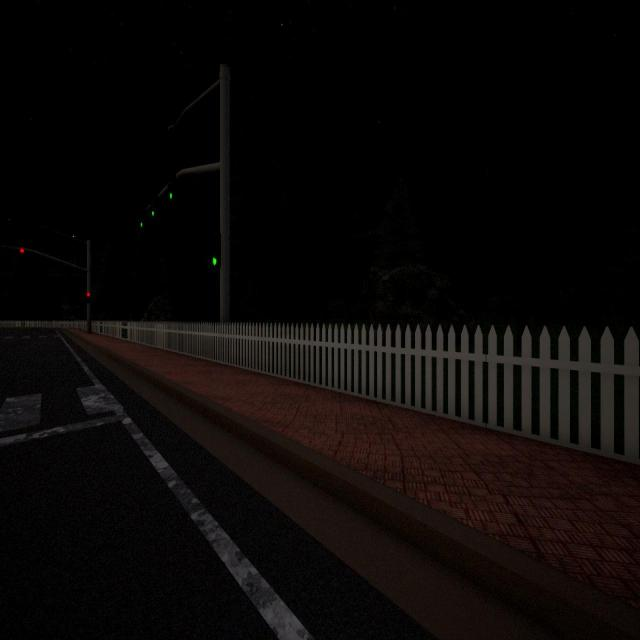traffic_light: (211, 232, 221, 266), (169, 182, 173, 200), (140, 213, 144, 227), (151, 202, 155, 216), (86, 292, 90, 304), (20, 248, 24, 254)
